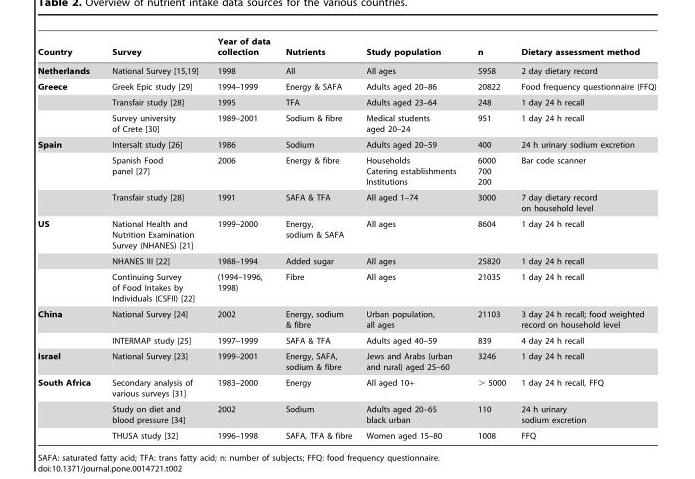table: (37, 36, 655, 439)
table column: (512, 36, 655, 439), (358, 36, 466, 439), (100, 36, 207, 439), (277, 36, 358, 439), (207, 36, 277, 439), (37, 36, 100, 439), (466, 36, 512, 439)
table column header: (37, 36, 655, 61)
table row: (37, 215, 655, 253), (37, 268, 655, 306), (37, 152, 655, 189), (37, 373, 655, 401), (37, 110, 655, 136), (37, 189, 655, 215), (37, 306, 655, 332), (37, 401, 655, 427), (37, 36, 655, 61), (37, 348, 655, 373), (37, 61, 655, 78), (37, 78, 655, 94), (37, 94, 655, 110), (37, 136, 655, 152), (37, 332, 655, 348), (37, 253, 655, 268), (37, 427, 655, 439)
table spanning cell: (37, 215, 100, 306), (37, 136, 100, 215), (37, 373, 100, 439), (37, 78, 100, 136), (37, 306, 100, 348)
